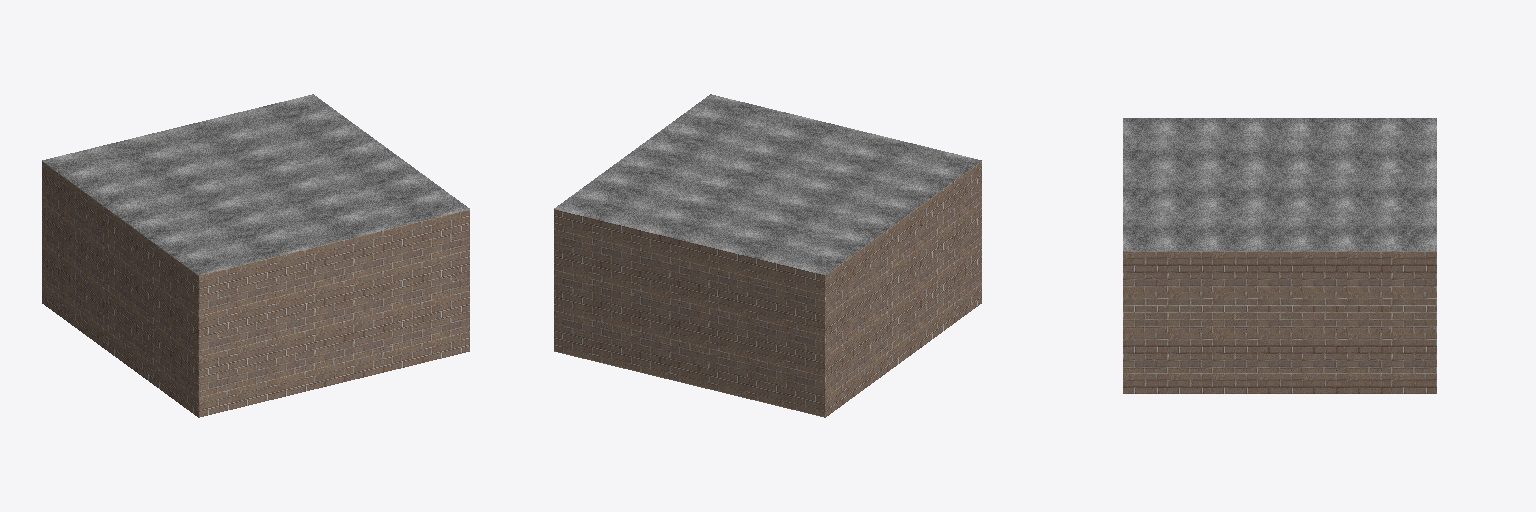
The picture shows the model from 3 angles: view 1: azimuth 30°, elevation 25°; view 2: azimuth 150°, elevation 25°; view 3: azimuth 270°, elevation 25°; orthographic projection.
Parts seen in each view (by area): view 1: Cube; view 2: Cube; view 3: Cube.
Part boxes in pixels (x1,y1,x2,y2): Cube: (42,94,469,417); Cube: (554,94,981,417); Cube: (1123,118,1436,393).
Bounding box in the file's own units: 2 × 1 × 2.
2 materials, 2 textured.